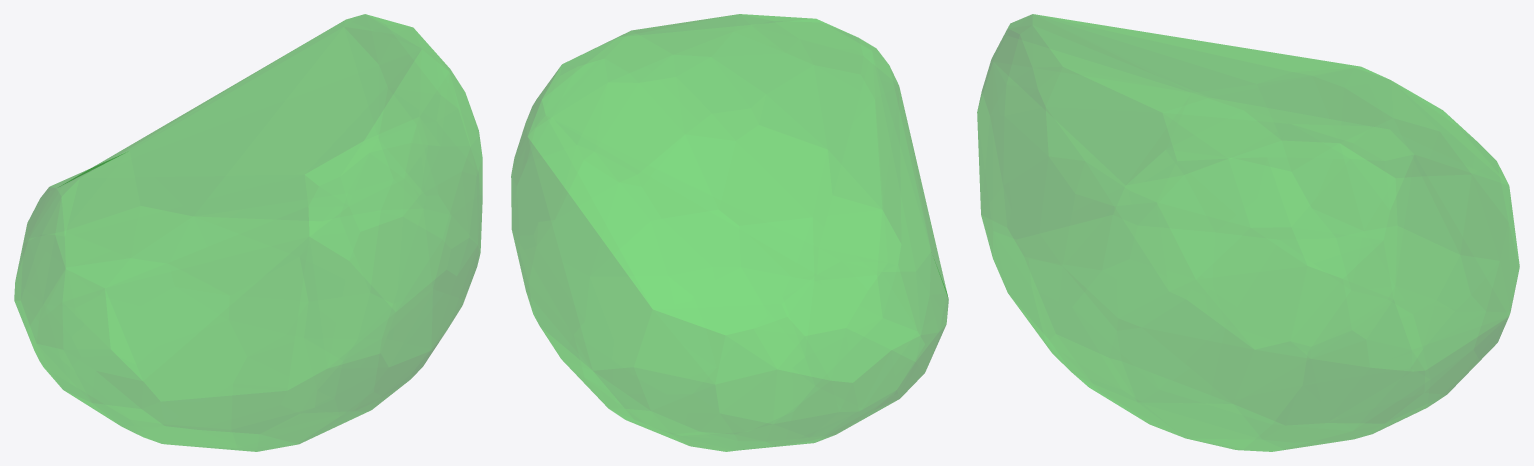
Rendered from talos_rleg_rom.dae.
3 renders of one model, left to right at view 1: azimuth 30°, elevation 25°; view 2: azimuth 150°, elevation 25°; view 3: azimuth 270°, elevation 25°, orthographic. The views are drawn at different scales.
Visible parts, largest first — view 1: foo_002; view 2: foo_002; view 3: foo_002.
Part boxes in pixels (<box>): foo_002: <box>14,14,482,451</box>; foo_002: <box>511,14,948,451</box>; foo_002: <box>977,14,1519,451</box>.
Size of the model in its own units: 1.49 by 1.47 by 1.26.
